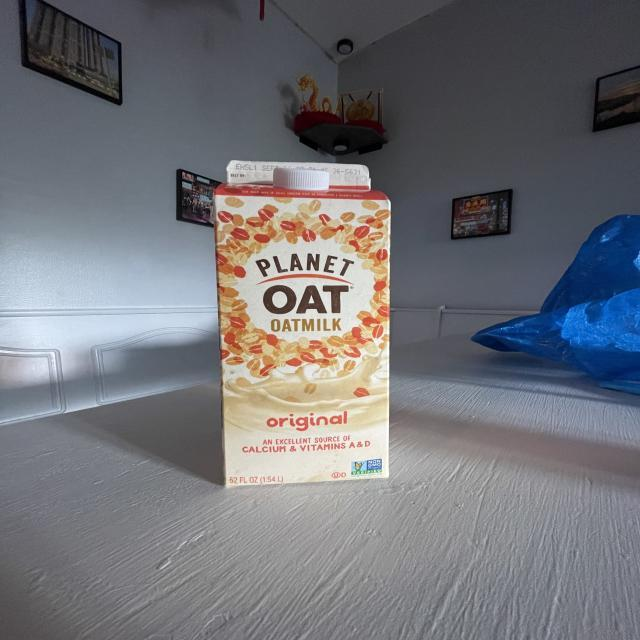Planet Oat Original: (208, 150, 408, 492)
